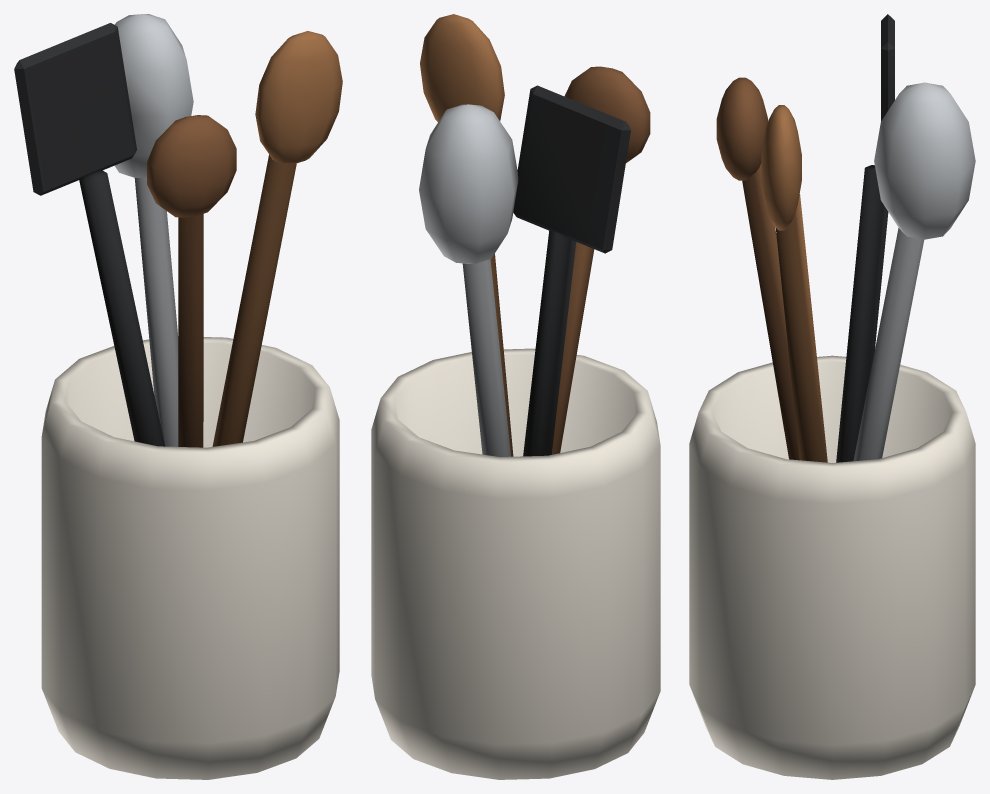
Rendered from utensilCrock.glb.
3 views of the same model, side by side, from view 1: azimuth 30°, elevation 25°; view 2: azimuth 150°, elevation 25°; view 3: azimuth 270°, elevation 25° (orthographic). The views are drawn at different scales.
Parts seen in each view (by area): view 1: utensilCrock; view 2: utensilCrock; view 3: utensilCrock.
Boxes of the visible parts, x1,y1,x2,y2 form: utensilCrock: (14,14,342,779); utensilCrock: (371,14,660,779); utensilCrock: (689,14,975,779).
Size of the model in its own units: 0.1323 by 0.3155 by 0.124.
